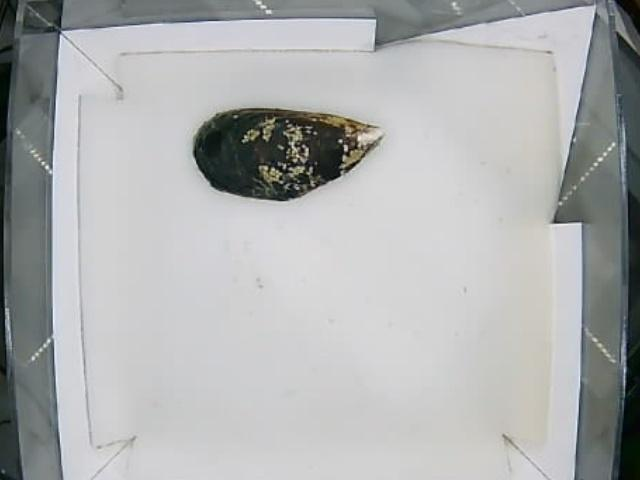Shell: (192, 107, 385, 199)
